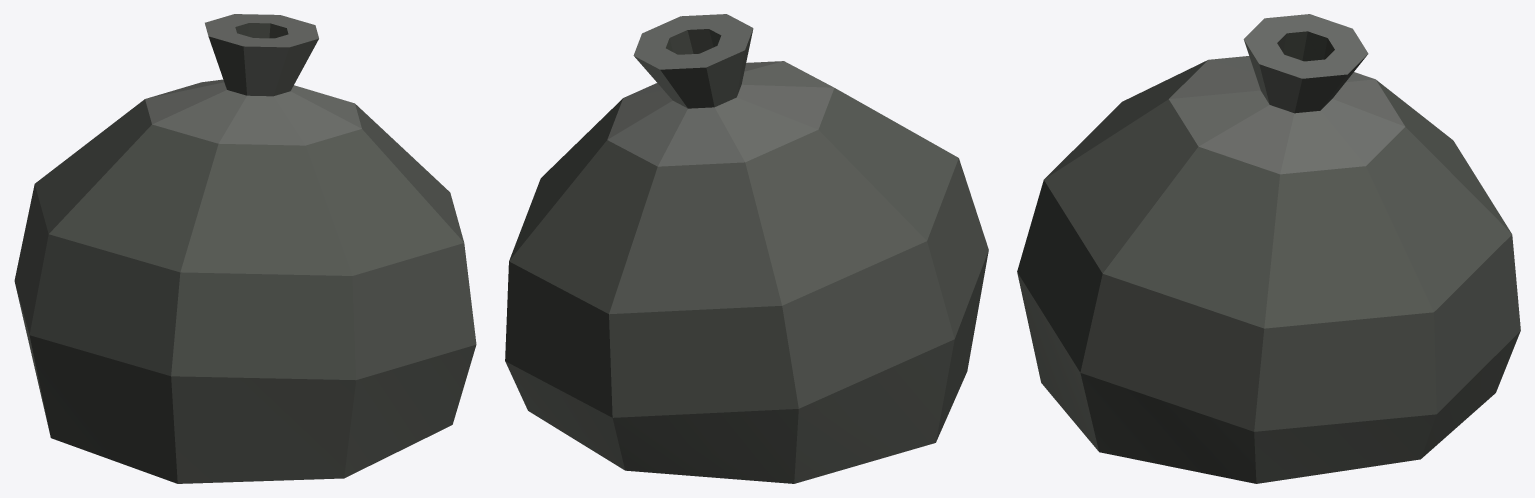
Rendered from Rubbish_Bag.glb.
3 views of the same model, side by side, from view 1: azimuth 30°, elevation 25°; view 2: azimuth 150°, elevation 25°; view 3: azimuth 270°, elevation 25° (orthographic). The views are drawn at different scales.
Visible parts, largest first — view 1: GarbageBag; view 2: GarbageBag; view 3: GarbageBag.
Part boxes in pixels (left/top/right/bottom): GarbageBag: left=14, top=14, right=476, bottom=483; GarbageBag: left=505, top=14, right=988, bottom=483; GarbageBag: left=1017, top=14, right=1520, bottom=483.
Size of what is drawn, in the model's own units: 1.38 by 1.17 by 1.38.
Materials: 1 (1 with a texture image).
